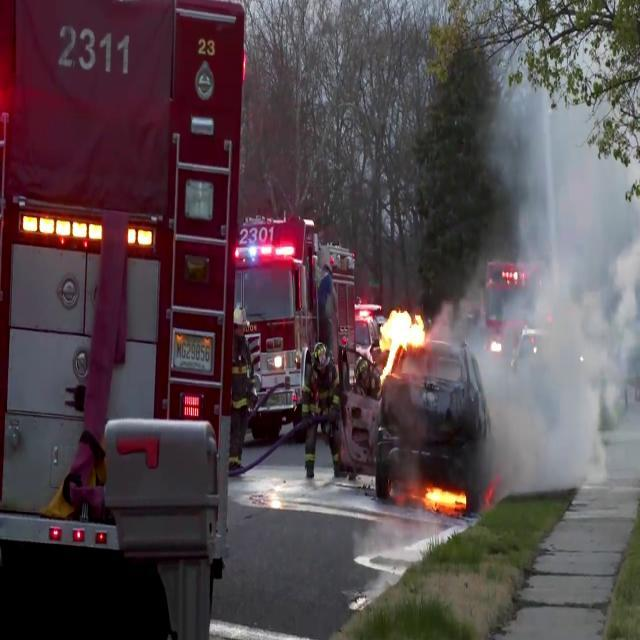Fire: (375, 298, 429, 382), (406, 474, 469, 514)
Smoke: (466, 54, 640, 499)
